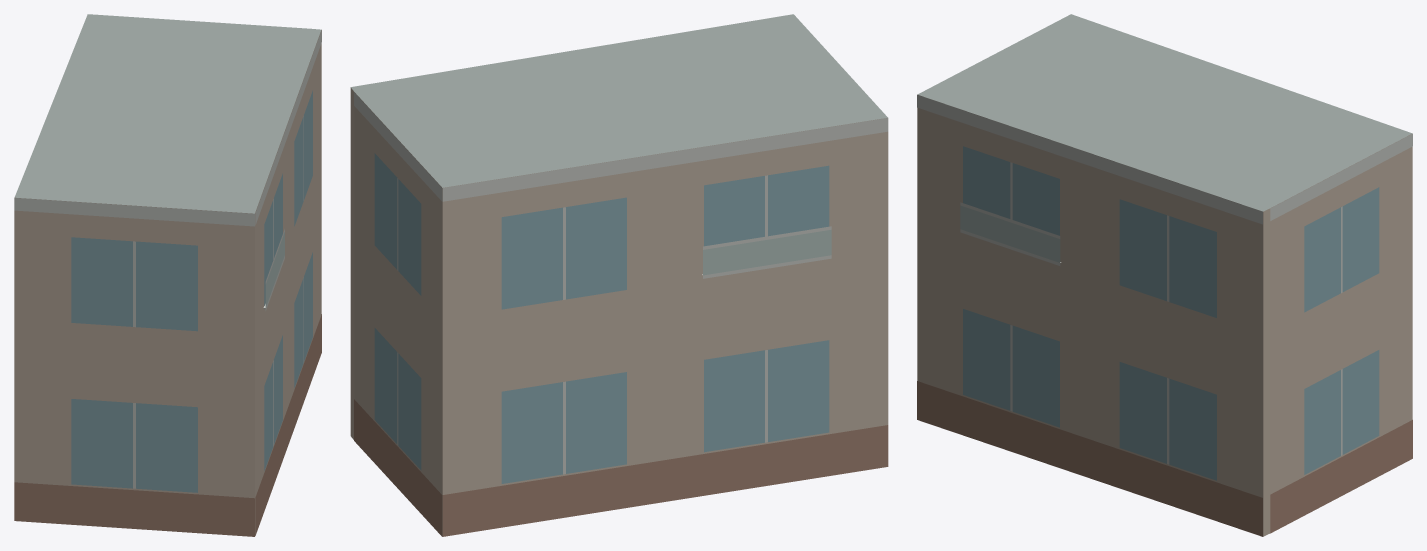
File: survey-upis-32818179.glb
3 renders of one model, left to right at view 1: azimuth 30°, elevation 25°; view 2: azimuth 150°, elevation 25°; view 3: azimuth 270°, elevation 25°, orthographic. The views are drawn at different scales.
Parts seen in each view (by area): view 1: survey-upis-32818179.tmp; view 2: survey-upis-32818179.tmp; view 3: survey-upis-32818179.tmp.
Boxes of the visible parts, x1,y1,x2,y2 form: survey-upis-32818179.tmp: (14, 14, 321, 536); survey-upis-32818179.tmp: (350, 14, 888, 536); survey-upis-32818179.tmp: (917, 14, 1412, 536).
Bounding box in the file's own units: 7.96 × 6.1 × 8.43.
